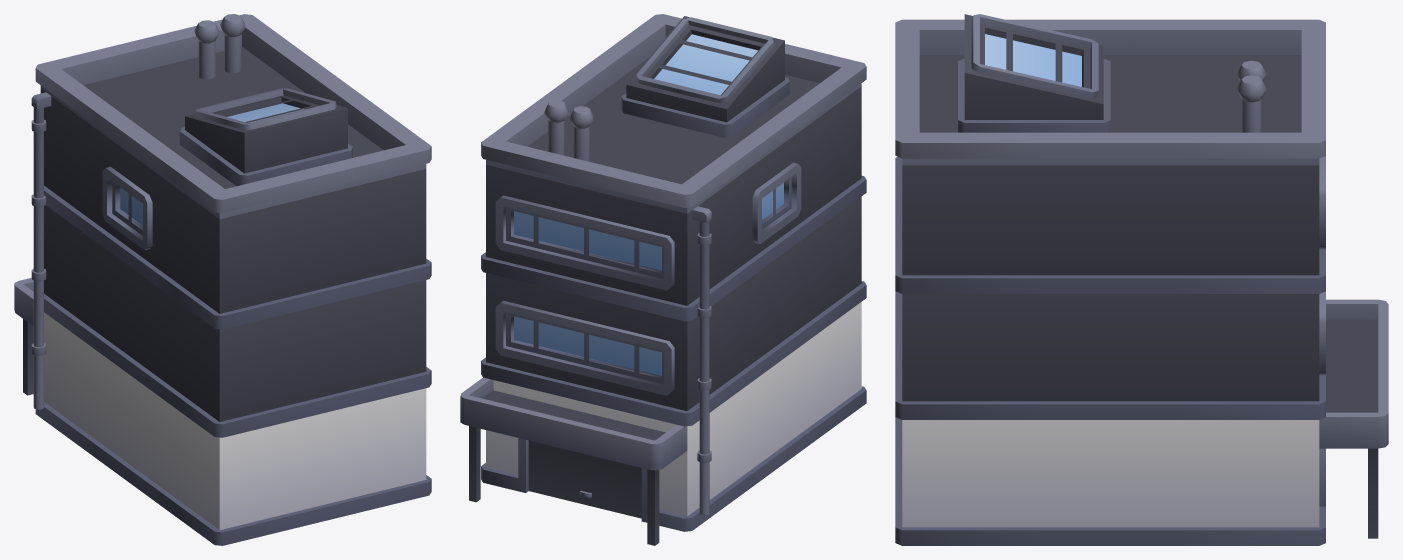
The model's file is building-d.fbx.
3 views of the same model, side by side, from view 1: azimuth 30°, elevation 25°; view 2: azimuth 150°, elevation 25°; view 3: azimuth 270°, elevation 25° (orthographic). The views are drawn at different scales.
Visible parts, largest first — view 1: building-d; view 2: building-d; view 3: building-d.
Part boxes in pixels (x1,y1,x2,y2): building-d: (14, 14, 431, 545); building-d: (460, 14, 866, 545); building-d: (895, 14, 1388, 545).
Bounding box in the file's own units: 88.36 × 141 × 142.
1 material, 1 textured.
